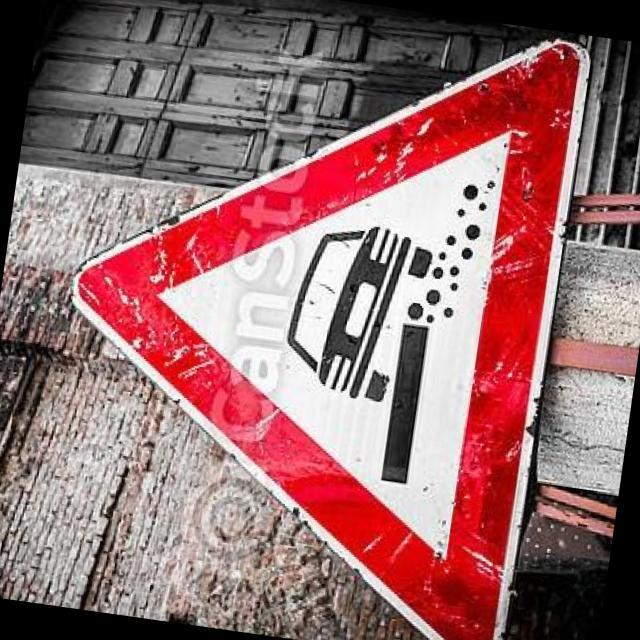obstructed_road_sign: (74, 41, 588, 640)
